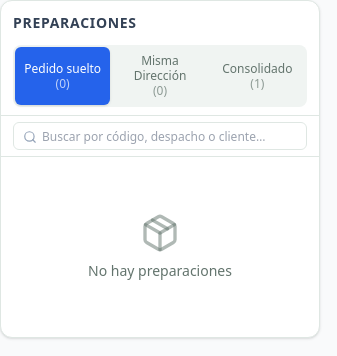
it: PendingSidebar — tarjetas › en consolidado, 1 pedido y 1 cliente usan singular (sin "s")
Click the tab "Consolidado (1)" at [257, 76], box left=210, top=47, right=305, bottom=105
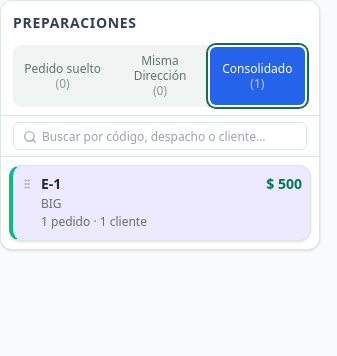
expect the text "1 pedido · 1 cliente" is shown: met, box left=41, top=214, right=147, bottom=230
